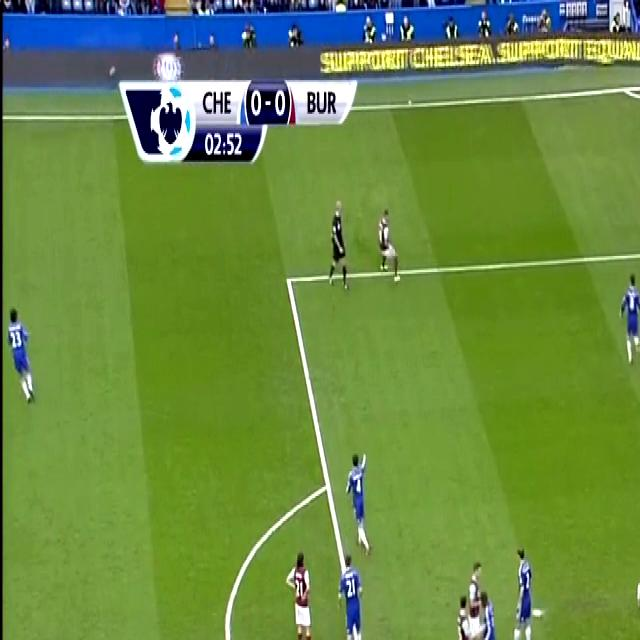ball: (637, 76, 640, 102)
referee: (328, 202, 353, 294)
soccer-player: (2, 298, 46, 427), (277, 535, 320, 640), (340, 450, 378, 559), (505, 537, 534, 640), (613, 258, 640, 368), (336, 554, 368, 640), (376, 200, 402, 288), (462, 553, 487, 640), (474, 595, 511, 640), (451, 592, 472, 640), (630, 556, 640, 640)
